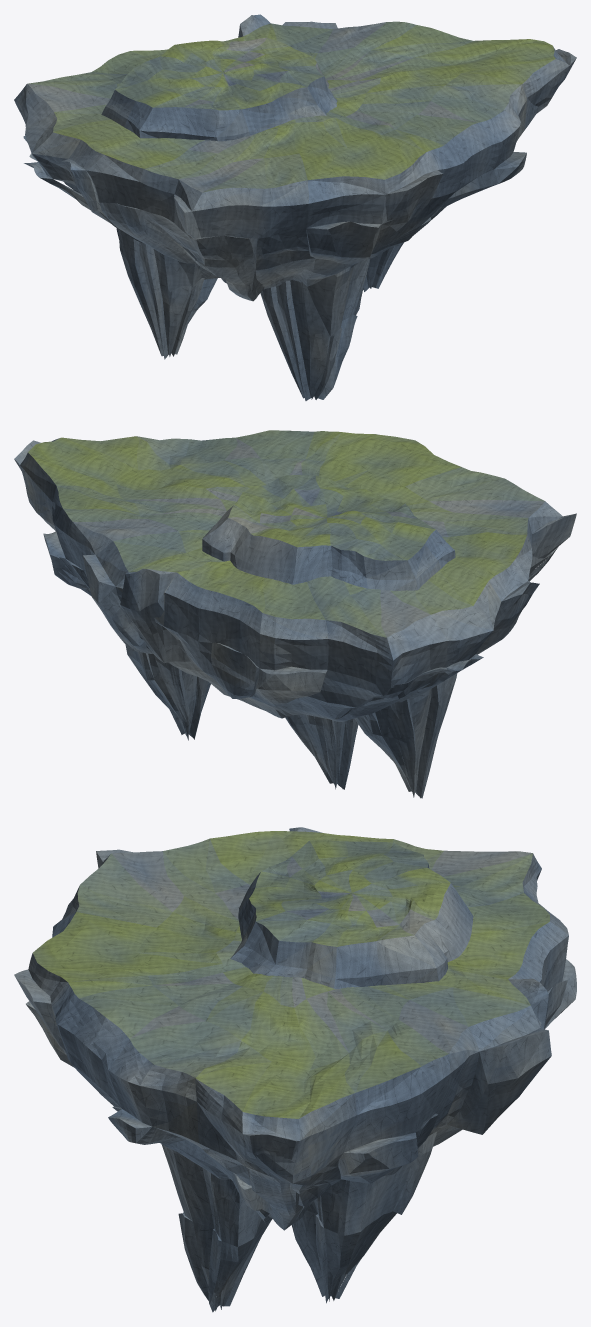
3 views of the same model, one above another, from view 1: azimuth 30°, elevation 25°; view 2: azimuth 150°, elevation 25°; view 3: azimuth 270°, elevation 25° (orthographic). The views are drawn at different scales.
Visible parts, largest first — view 1: F07_stone; view 2: F07_stone; view 3: F07_stone.
Part boxes in pixels (x1=…): F07_stone: x1=14, y1=14, x2=576, y2=400; F07_stone: x1=14, y1=430, x2=576, y2=798; F07_stone: x1=14, y1=827, x2=576, y2=1312.
Size of the model in its own units: 12.69 by 7.53 by 9.68.
1 material, 1 textured.
